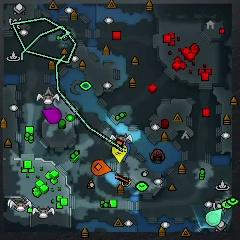p1: (121, 139, 131, 156)
p2: (206, 208, 222, 226)
p3: (41, 106, 64, 124)
p4: (113, 143, 127, 162)
p5: (93, 159, 112, 175)
